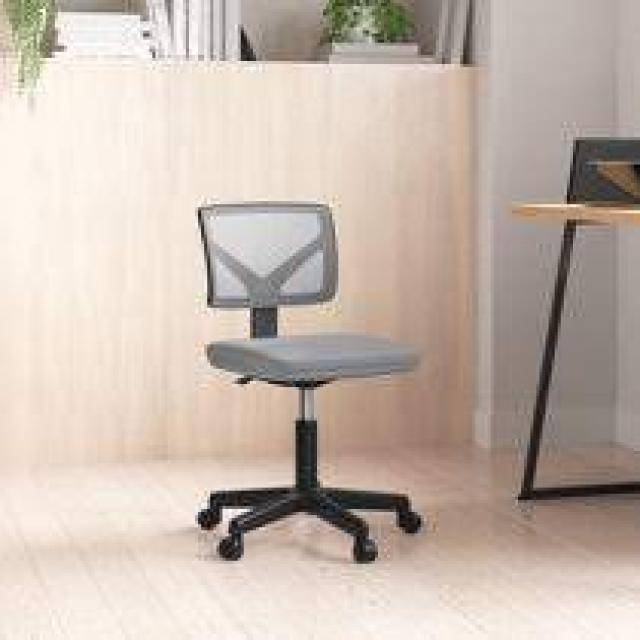chair: (158, 158, 437, 596)
